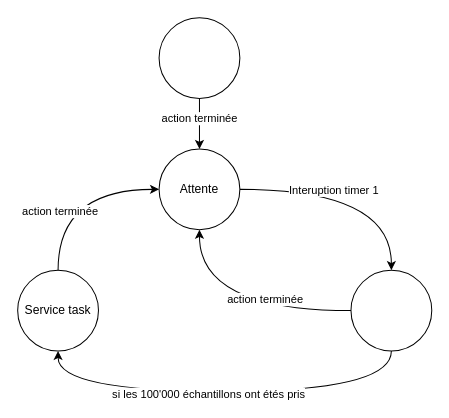
This 449x418 diagram has some shape labels left out. The shapes that lost their labels are listed below. From the top down, each one's box as (x1, y1, x2, y2) in pixels, then its label:
(158, 17, 240, 98): Initialisation
(350, 269, 432, 351): Pise d'échantillons
